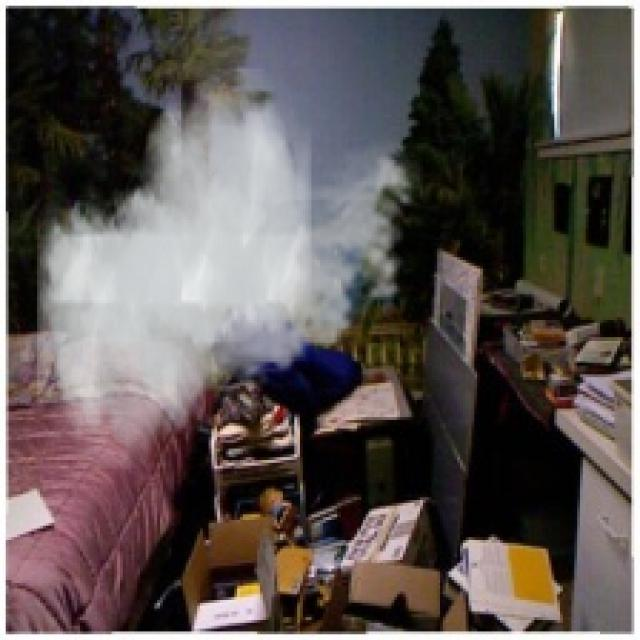smoke: (37, 69, 426, 468)
